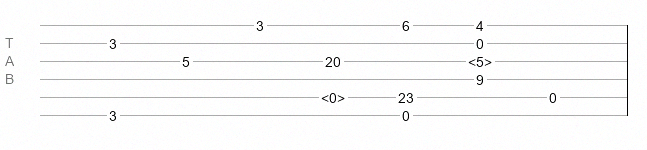0: (402, 108, 410, 118), (476, 36, 484, 46), (549, 90, 557, 100)
20: (325, 54, 341, 64)
23: (398, 90, 414, 100)
3: (109, 108, 117, 118), (109, 36, 117, 46), (256, 18, 264, 28)
4: (476, 18, 484, 28)
5: (182, 54, 190, 64)
6: (402, 18, 410, 28)
9: (476, 72, 484, 82)
harmonic: (321, 90, 345, 100), (468, 54, 492, 64)
